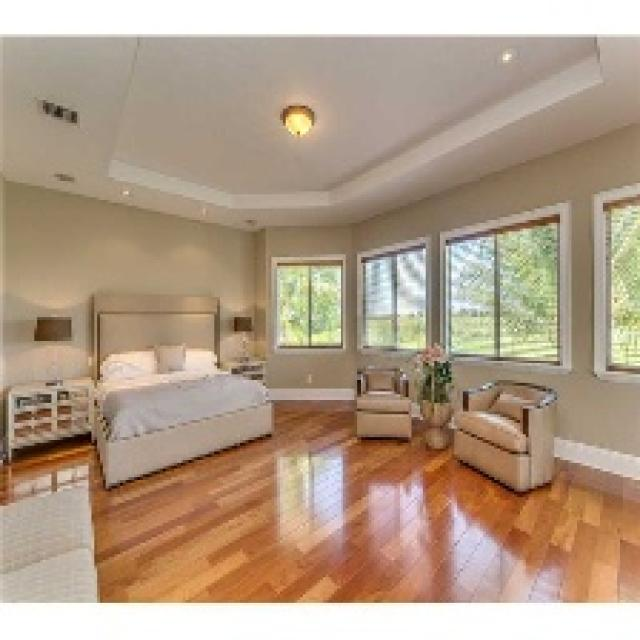Bed: (88, 292, 272, 488)
